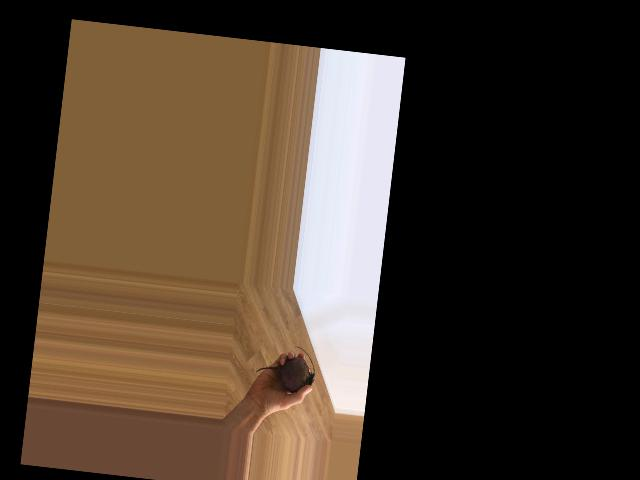beet: (254, 341, 318, 394)
